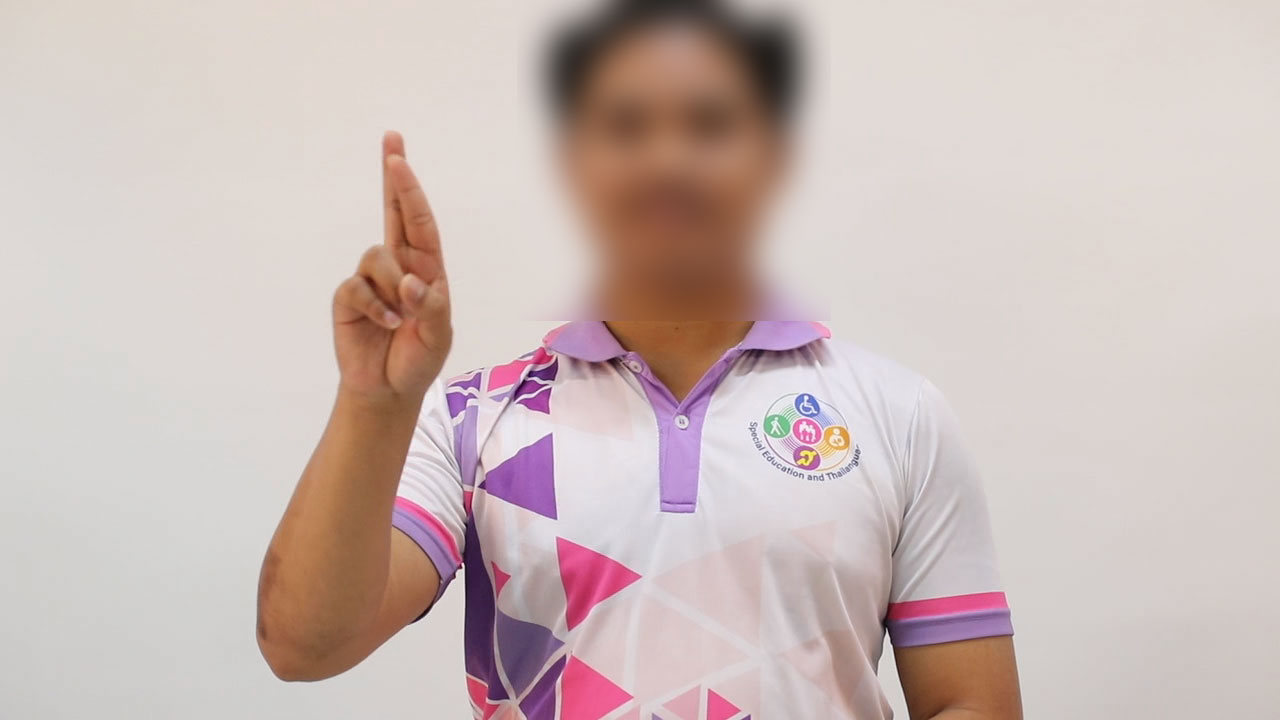rao: (307, 126, 463, 403)
